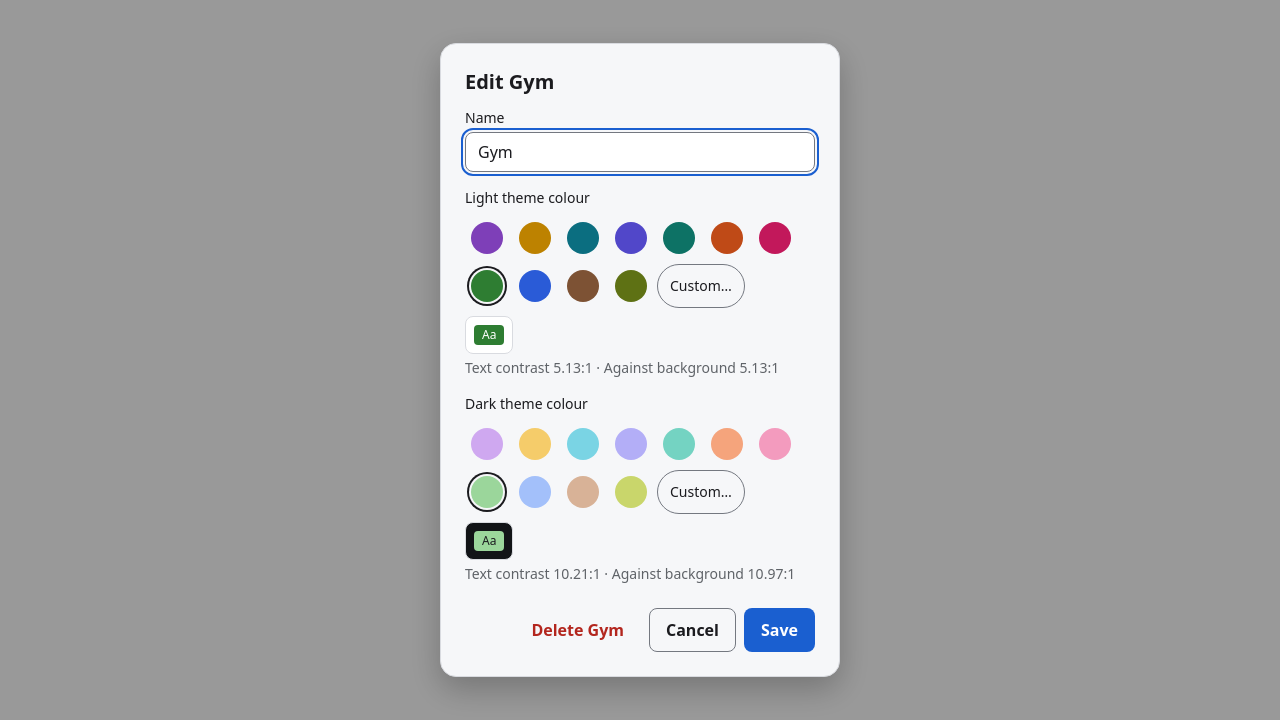
Test case: renaming a kind (AC-2, Block 5) › a save that comes back offline shows the alert strip and keeps the editor open
Replace the text in the field labelled "Name" with "Workouts" at coordinates (640, 152), box [465, 132, 815, 172]
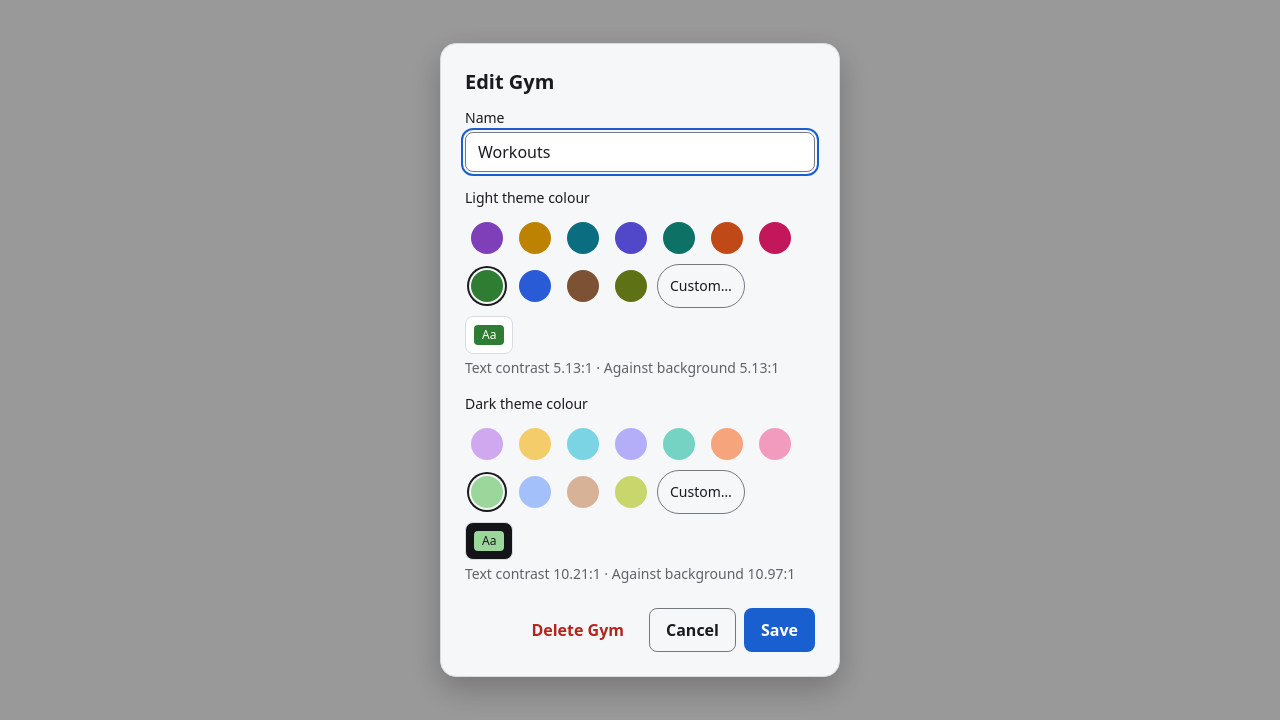
Click the button "Save".
click(780, 630)  # box [744, 608, 815, 652]
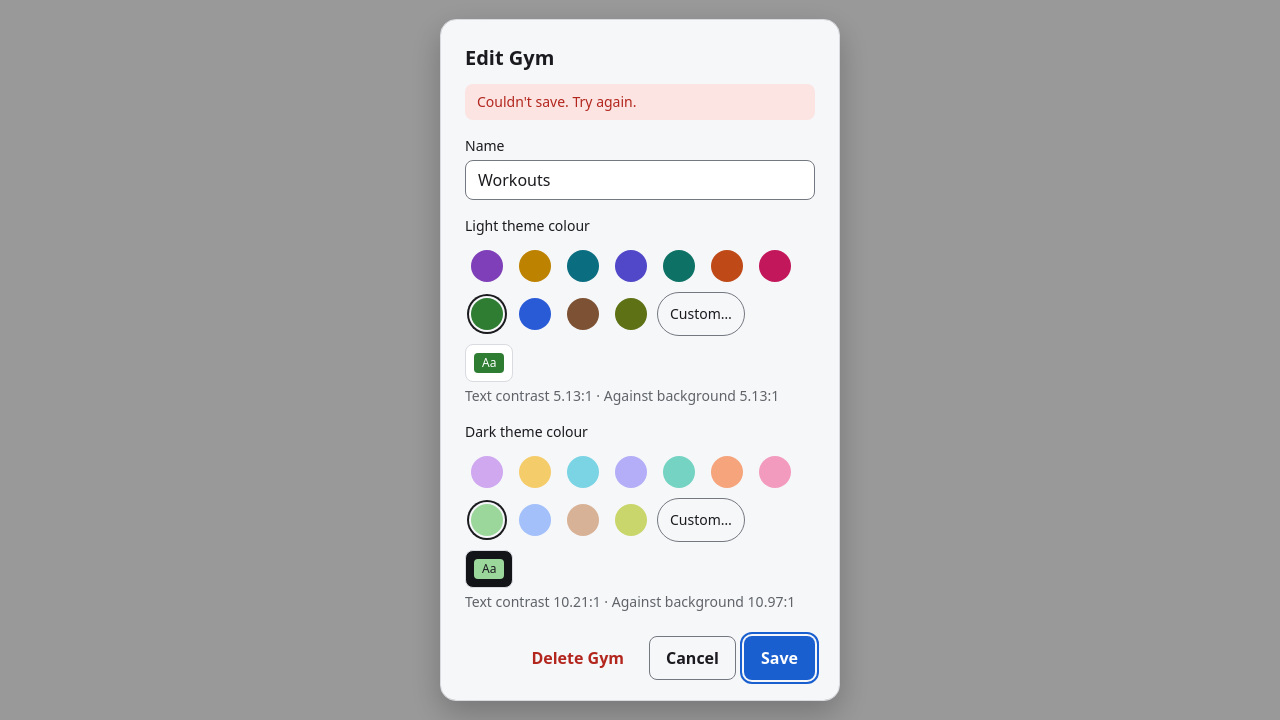
Now the message reads "Couldn't save. Try again.", box [477, 92, 636, 111]
